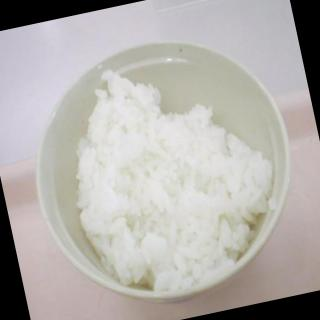Nasi: (49, 39, 295, 309)
